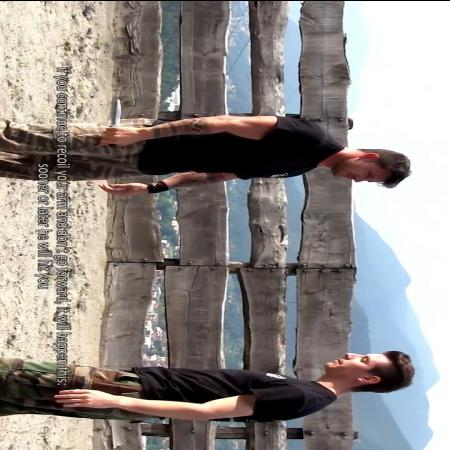long weapon: (97, 93, 131, 146)
